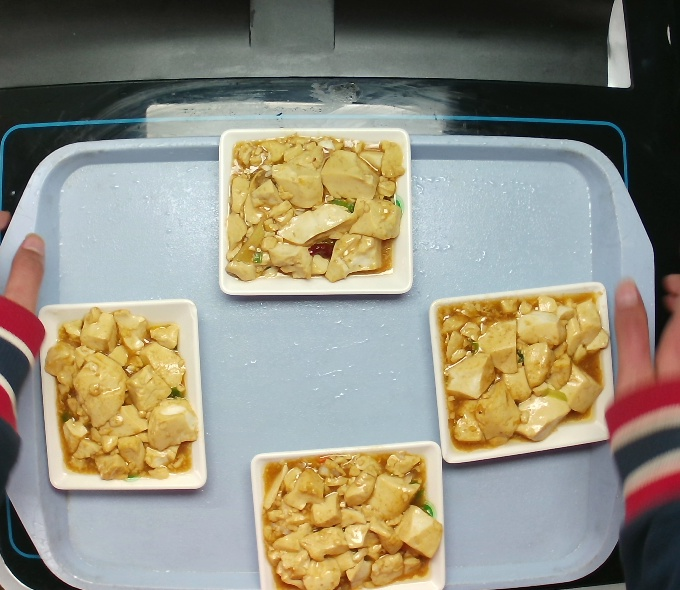wcq-DouFu: (429, 281, 621, 462), (222, 132, 408, 291), (49, 309, 193, 489), (263, 442, 432, 589)
